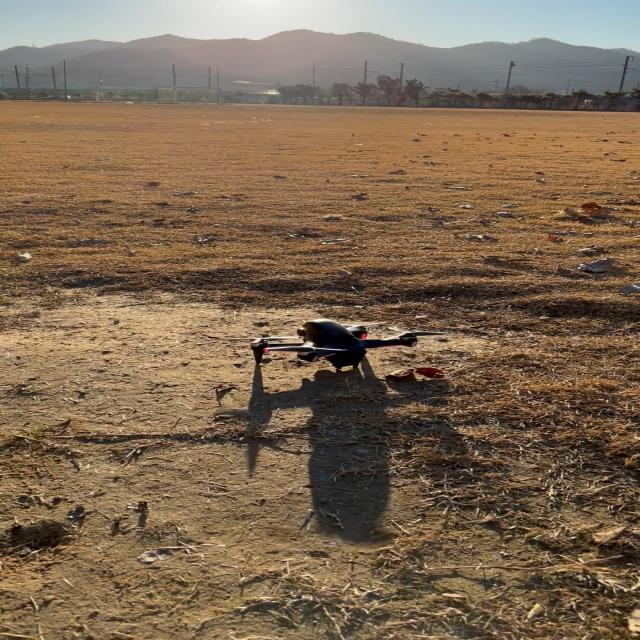Drone: (239, 322, 446, 383)
